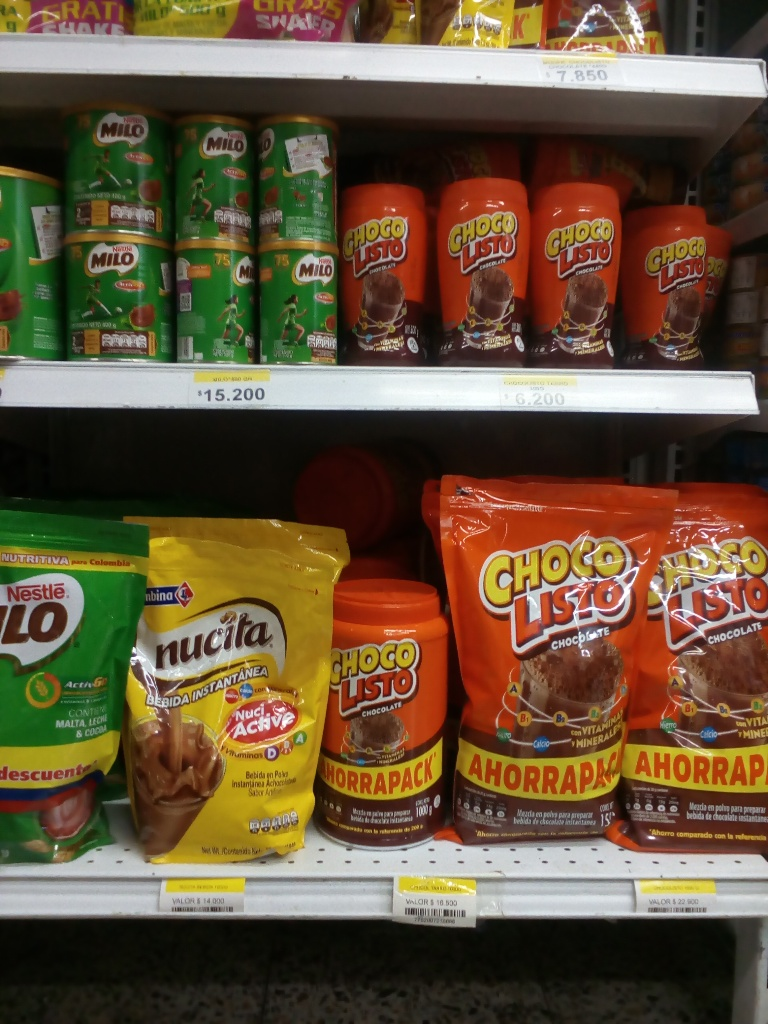COL0170103TRR00100: (315, 577, 452, 848)
COL0170203LAT20000: (256, 113, 339, 238)
